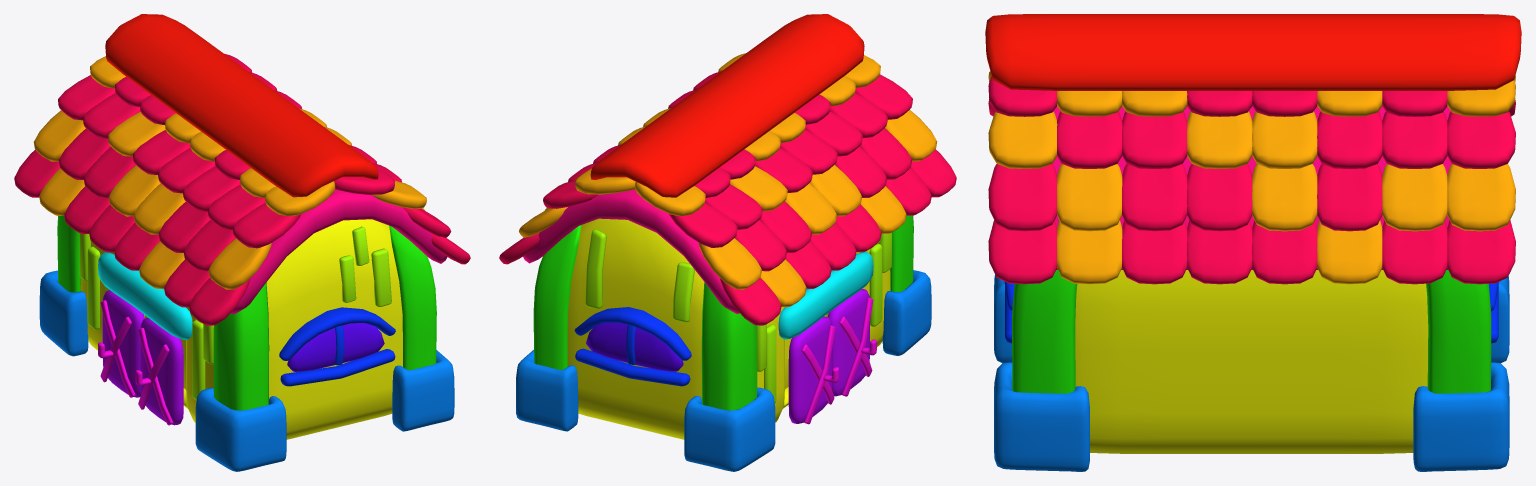
File: grange_porte.fbx
The picture shows the model from 3 angles, left to right: view 1: azimuth 30°, elevation 25°; view 2: azimuth 150°, elevation 25°; view 3: azimuth 270°, elevation 25°; orthographic projection. The views are drawn at different scales.
Visible parts, largest first — view 1: toiture_haut, porte2, porte1; view 2: toiture_haut, porte1, porte2; view 3: toiture_haut.
Boxes of the visible parts, <box> form: toiture_haut: <box>14,14,470,471</box>; porte2: <box>135,318,183,425</box>; porte1: <box>98,290,144,397</box>; toiture_haut: <box>499,14,956,471</box>; porte1: <box>788,316,838,424</box>; porte2: <box>828,289,876,396</box>; toiture_haut: <box>985,14,1521,471</box>.
Size of the model in its own units: 815 by 613 by 639.
